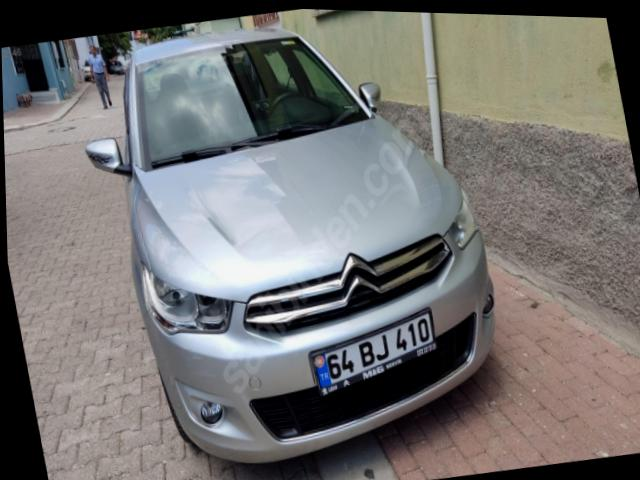plaka: (311, 312, 434, 394)
